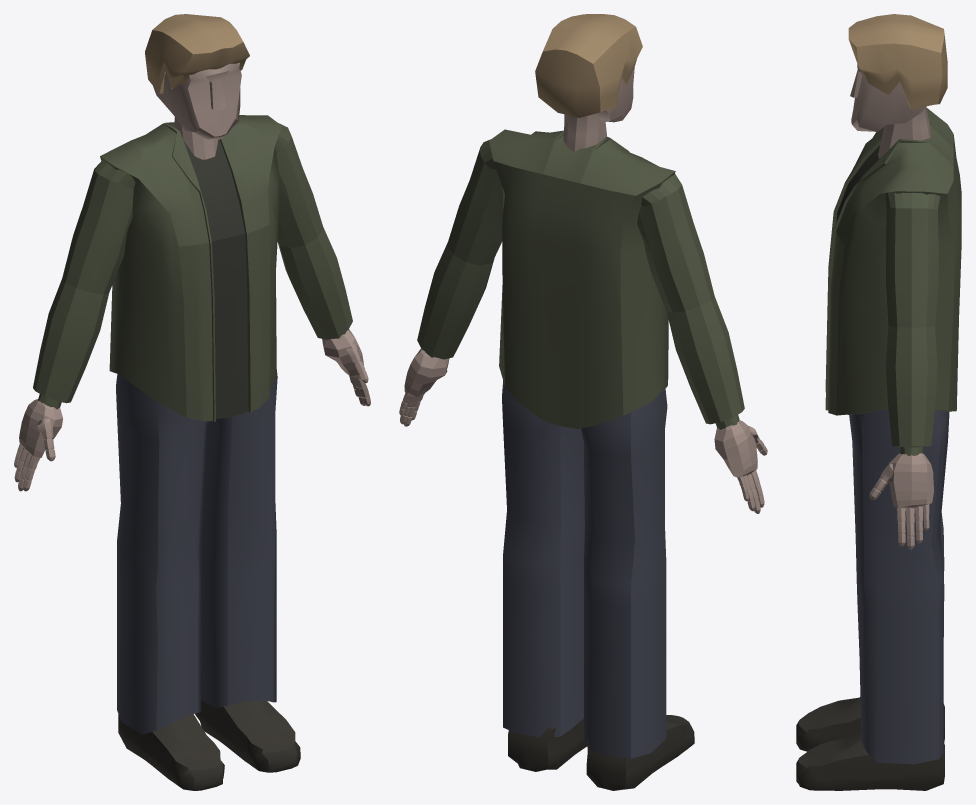
Rendered from _arry_mason.fbx.
The picture shows the model from 3 angles, left to right: view 1: azimuth 30°, elevation 25°; view 2: azimuth 150°, elevation 25°; view 3: azimuth 270°, elevation 25°; orthographic projection. The views are drawn at different scales.
Parts seen in each view (by area): view 1: polySurface30; view 2: polySurface30; view 3: polySurface30.
Part boxes in pixels (x1,y1,x2,y2): polySurface30: (14,14,370,790); polySurface30: (399,14,767,790); polySurface30: (796,14,961,790).
Bounding box in the file's own units: 92.44 × 183 × 37.13.
